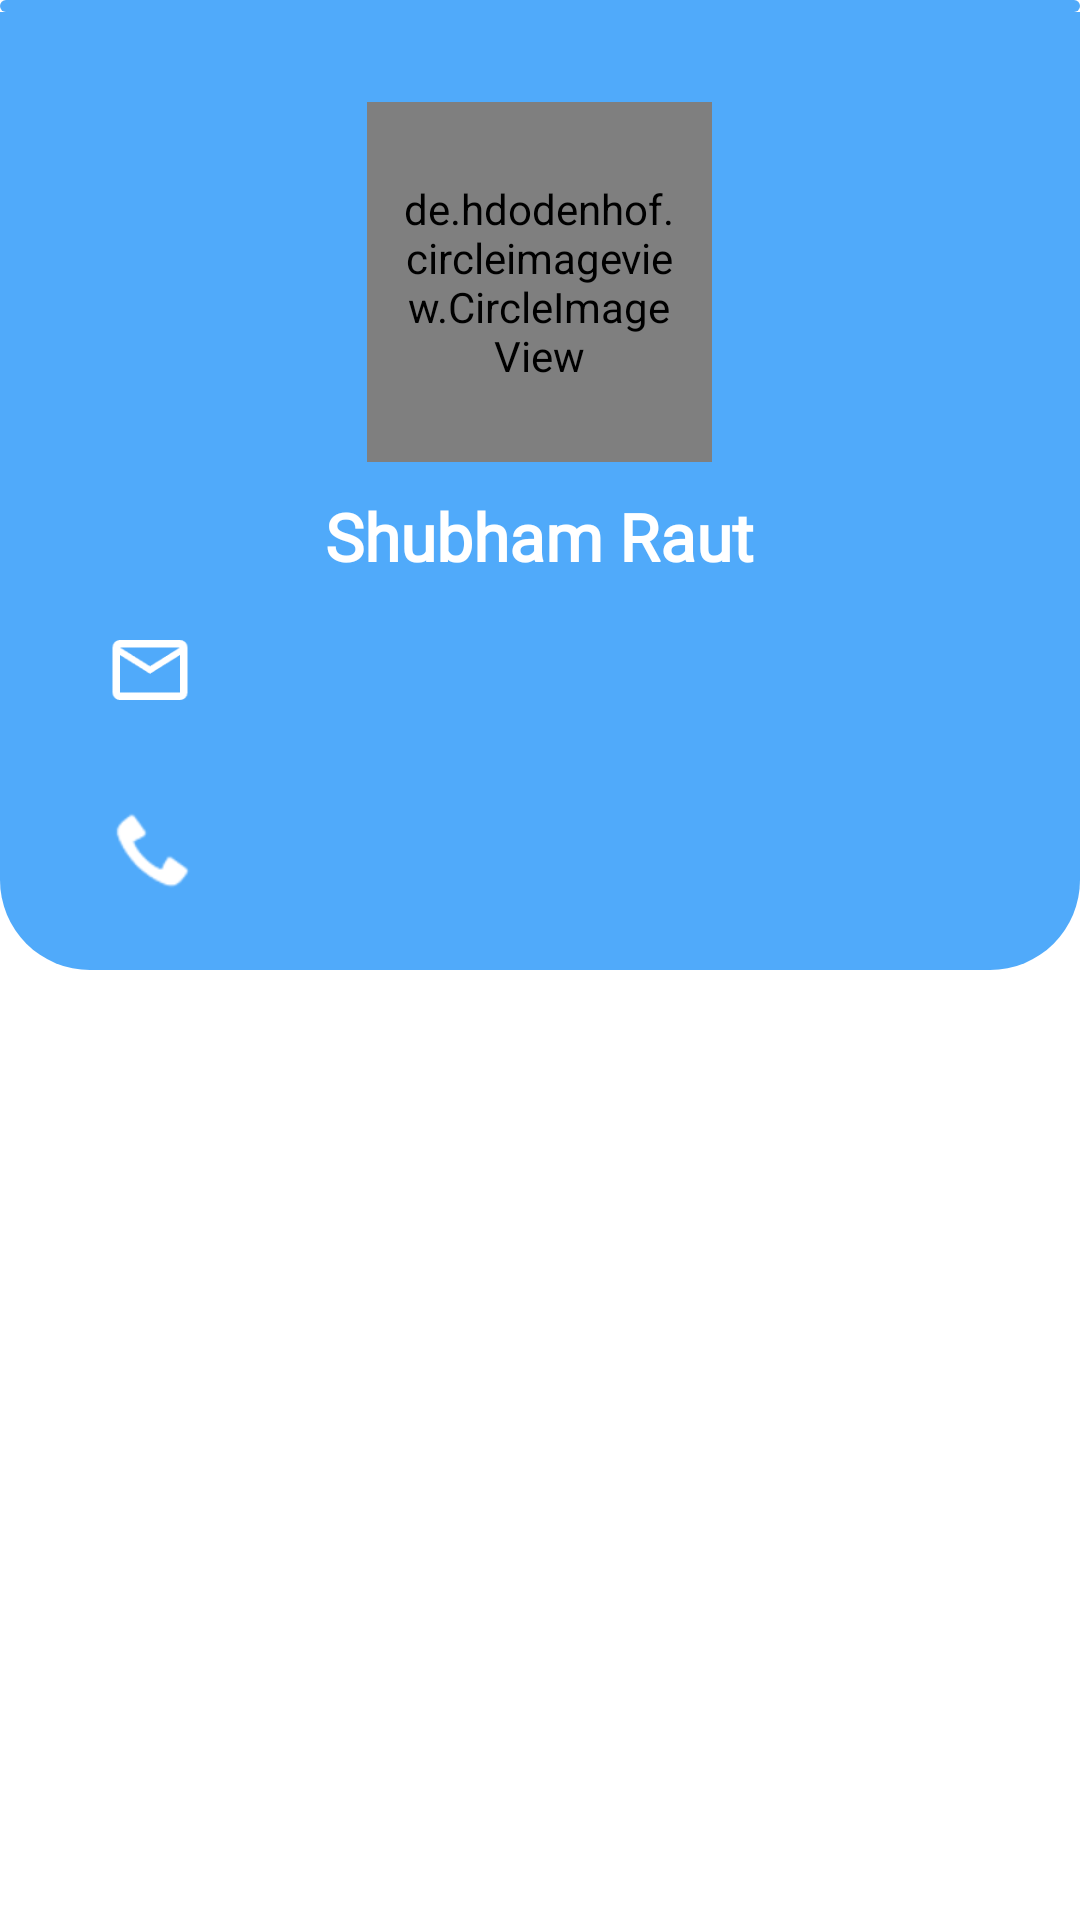

Screen size 1080 × 1920. Icon name, then its center in pixels as (x,y):
mail: (150,670)
